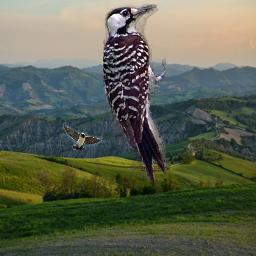Swallow: (63, 123, 103, 150)
Woodpecker: (103, 4, 166, 182)
